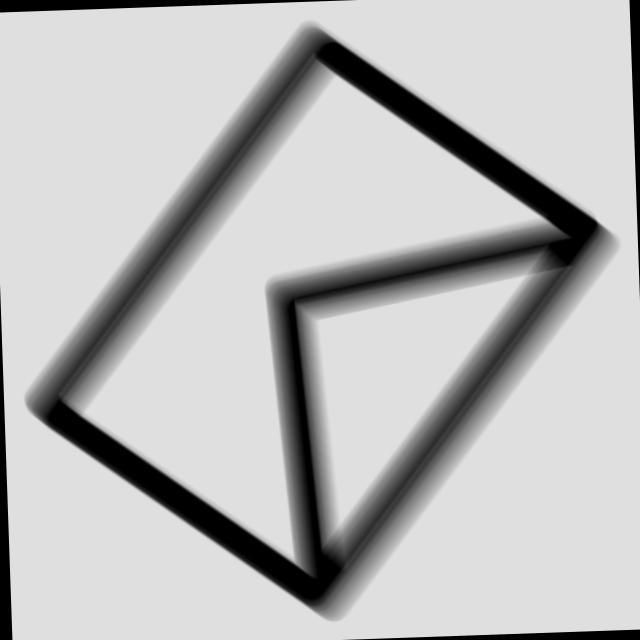letter: (1, 1, 640, 636)
